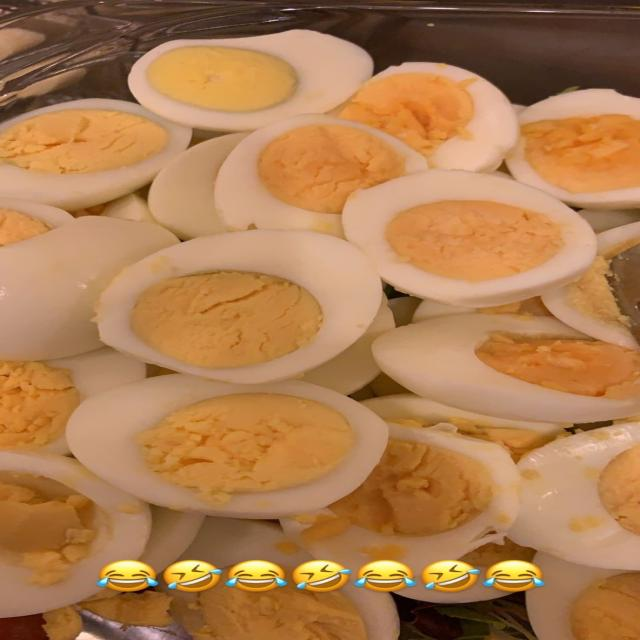eggs: (0, 36, 640, 545)
